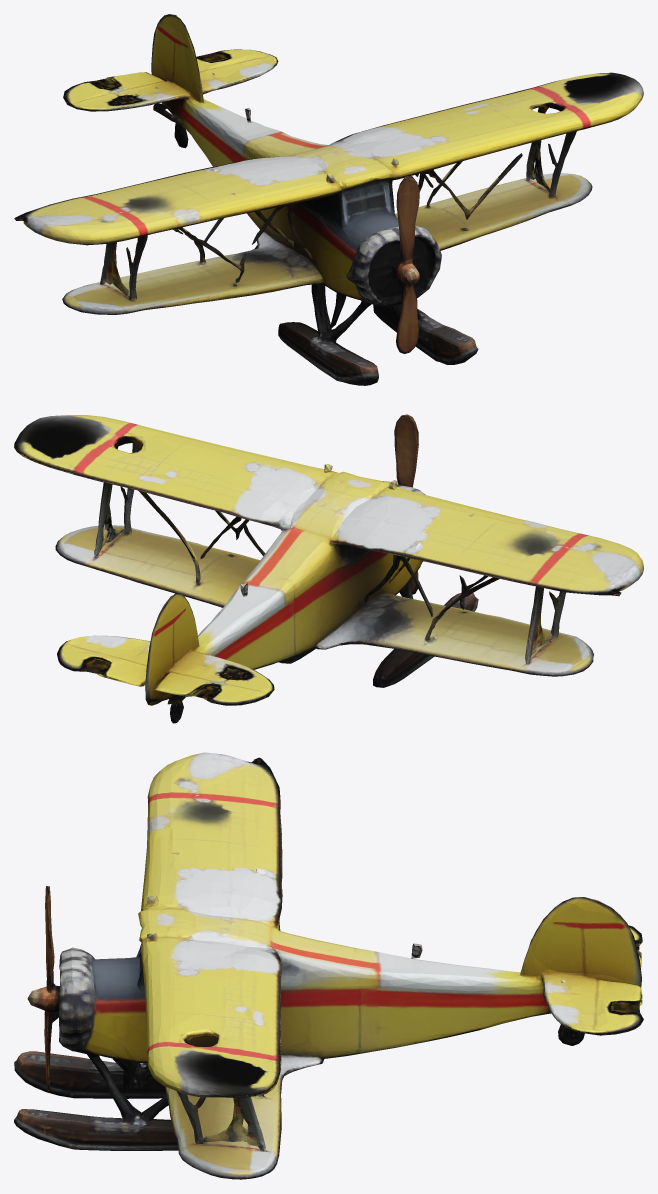
The model's file is avion.glb.
3 views of the same model, one above another, from view 1: azimuth 30°, elevation 25°; view 2: azimuth 150°, elevation 25°; view 3: azimuth 270°, elevation 25° (orthographic). The views are drawn at different scales.
Visible parts, largest first — view 1: world; view 2: world; view 3: world.
Part boxes in pixels (<box>): world: <box>14,14,643,385</box>; world: <box>14,414,643,723</box>; world: <box>14,752,643,1179</box>.
Bounding box in the file's own units: 1 × 0.3235 × 0.7833.
1 material, 1 textured.
